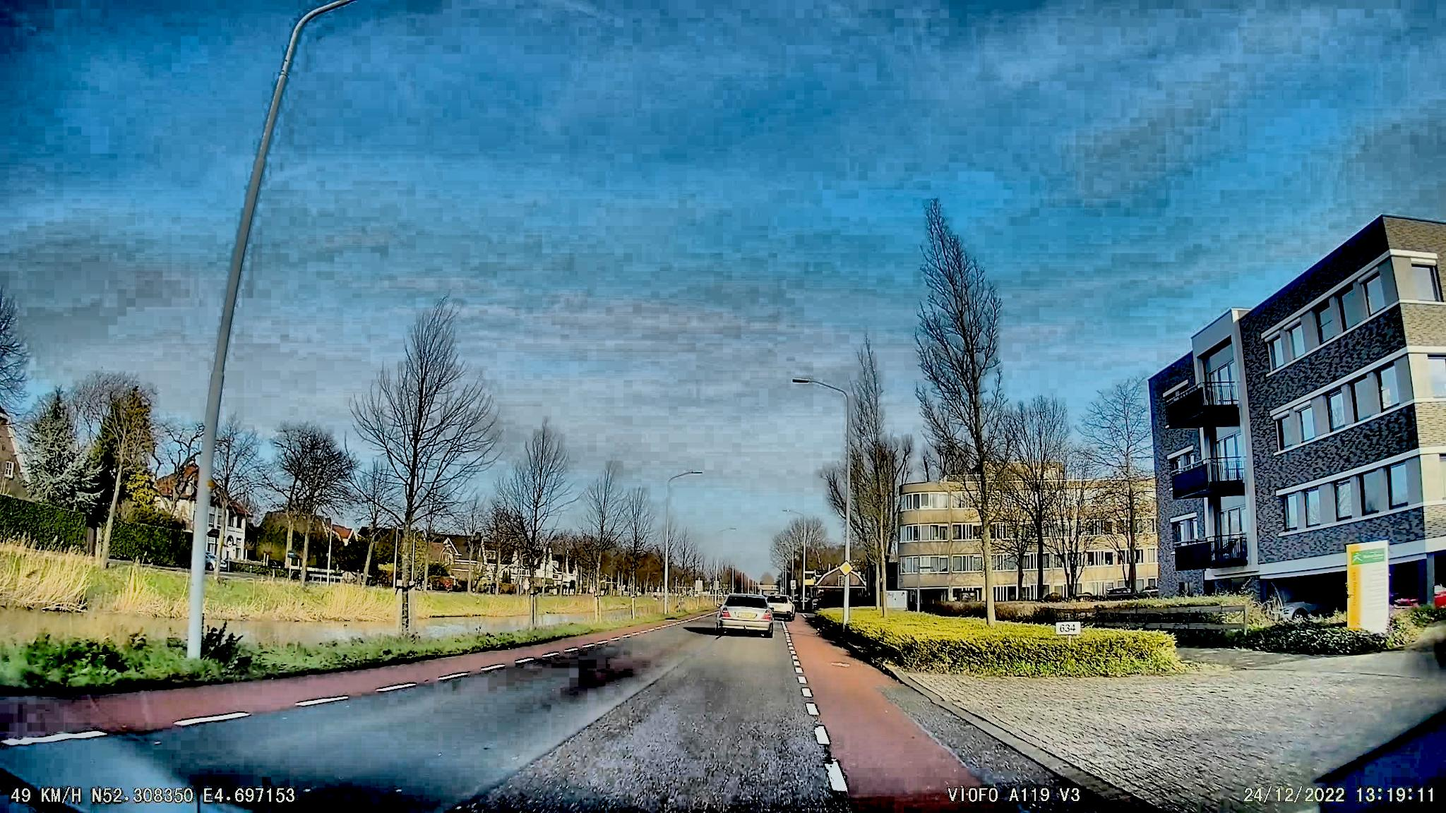Roads: (0, 620, 1446, 813)
